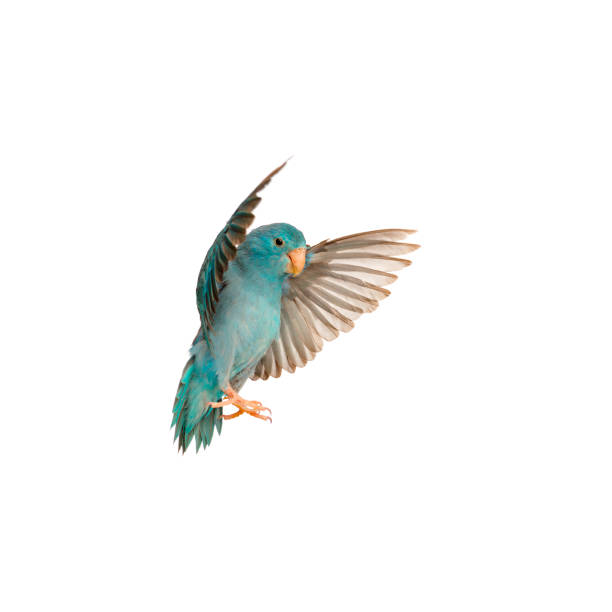Bird: (162, 154, 422, 459)
